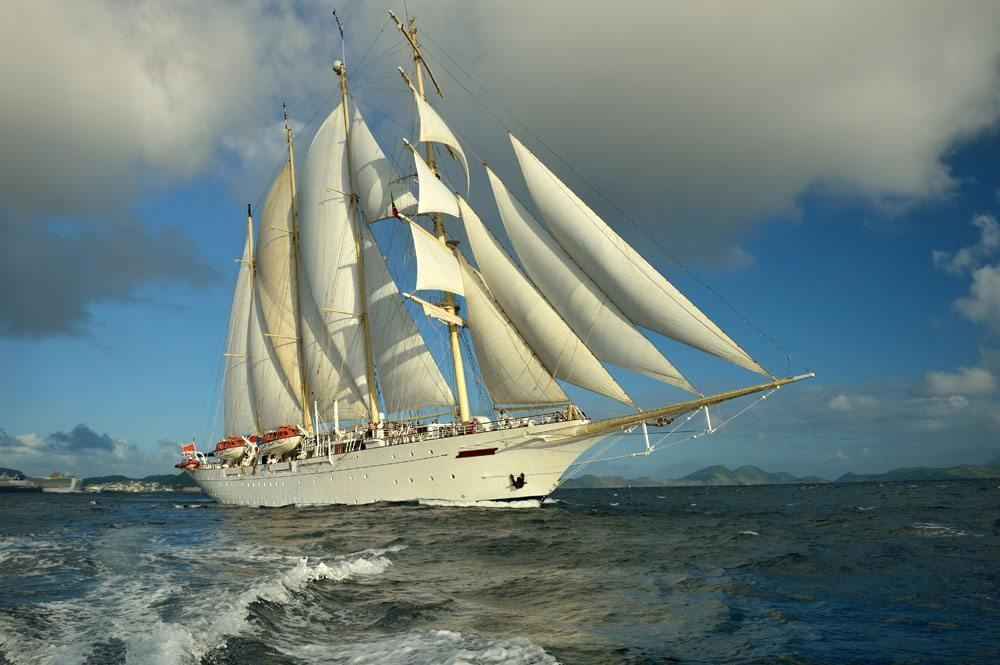fanchuan: (173, 1, 815, 506)
